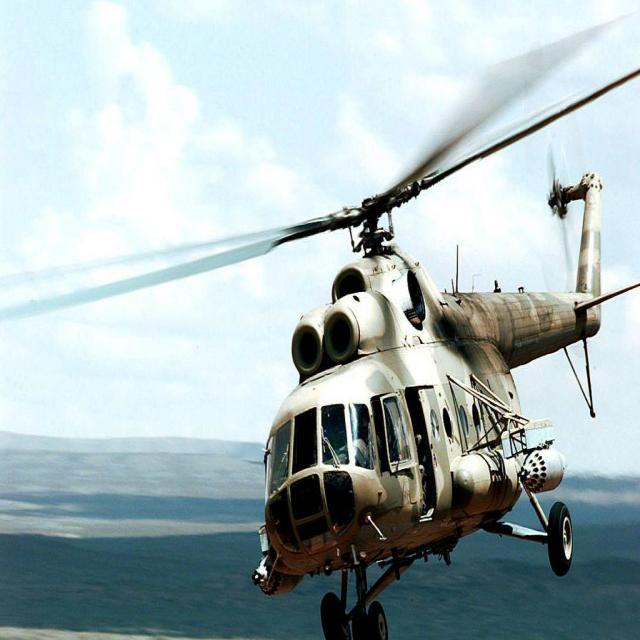helicopter: (148, 104, 640, 640)
